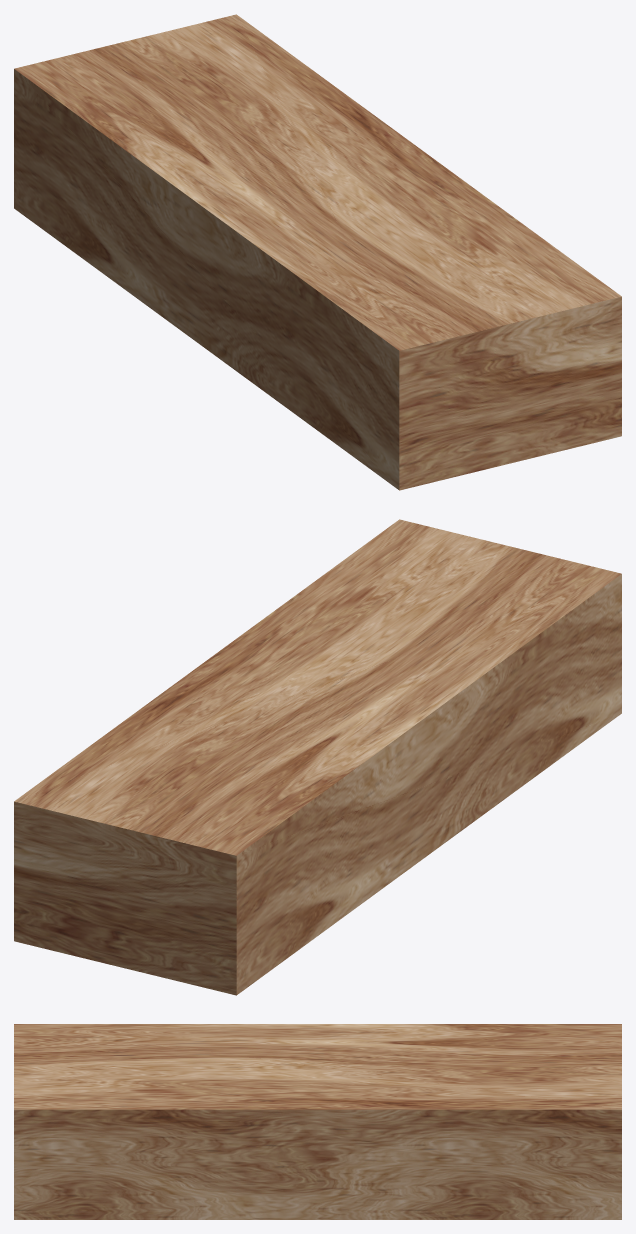
The model's file is blocks1.fbx.
3 renders of one model, top to bottom at view 1: azimuth 30°, elevation 25°; view 2: azimuth 150°, elevation 25°; view 3: azimuth 270°, elevation 25°, orthographic. The views are drawn at different scales.
Visible parts, largest first — view 1: Cube.001; view 2: Cube.001; view 3: Cube.001.
Boxes of the visible parts, <box> form: Cube.001: <box>14,14,621,490</box>; Cube.001: <box>14,519,621,995</box>; Cube.001: <box>14,1024,621,1219</box>.
Bounding box in the file's own units: 1000 × 600 × 3000.
